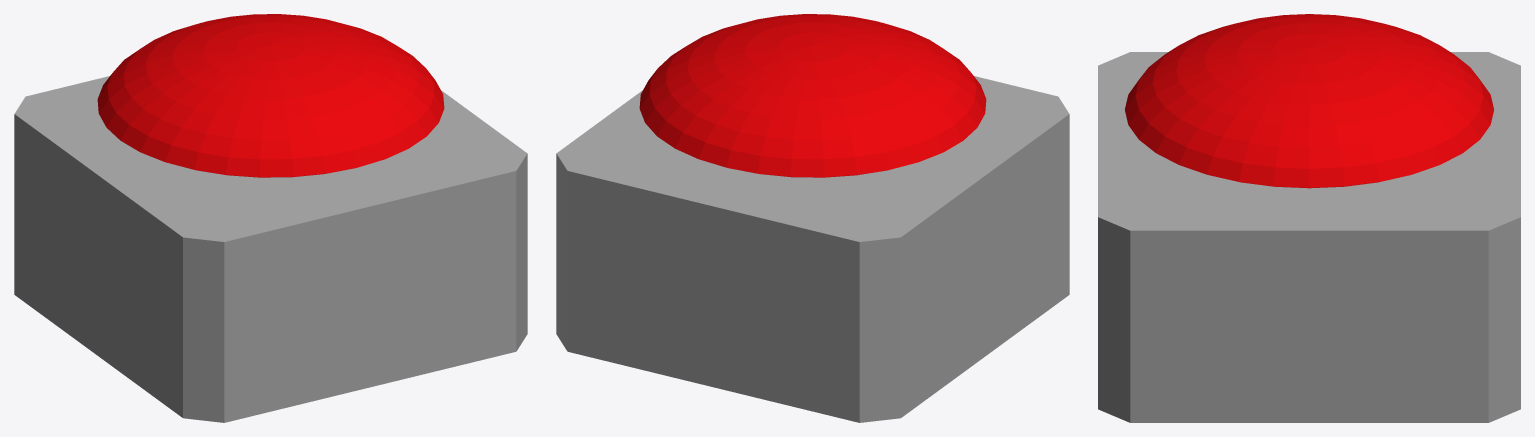
File: pulsante laser.fbx
The picture shows the model from 3 angles, left to right: view 1: azimuth 30°, elevation 25°; view 2: azimuth 150°, elevation 25°; view 3: azimuth 270°, elevation 25°; orthographic projection. The views are drawn at different scales.
Parts seen in each view (by area): view 1: Cube, Sphere; view 2: Cube, Sphere; view 3: Cube, Sphere.
Boxes of the visible parts, box(x1,y1,x2,y2) form: Cube: box(14, 76, 527, 422); Sphere: box(97, 14, 444, 177); Cube: box(556, 76, 1069, 422); Sphere: box(639, 14, 986, 177); Cube: box(1098, 52, 1520, 422); Sphere: box(1125, 14, 1493, 188).
Bounding box in the file's own units: 587 × 438 × 587.
